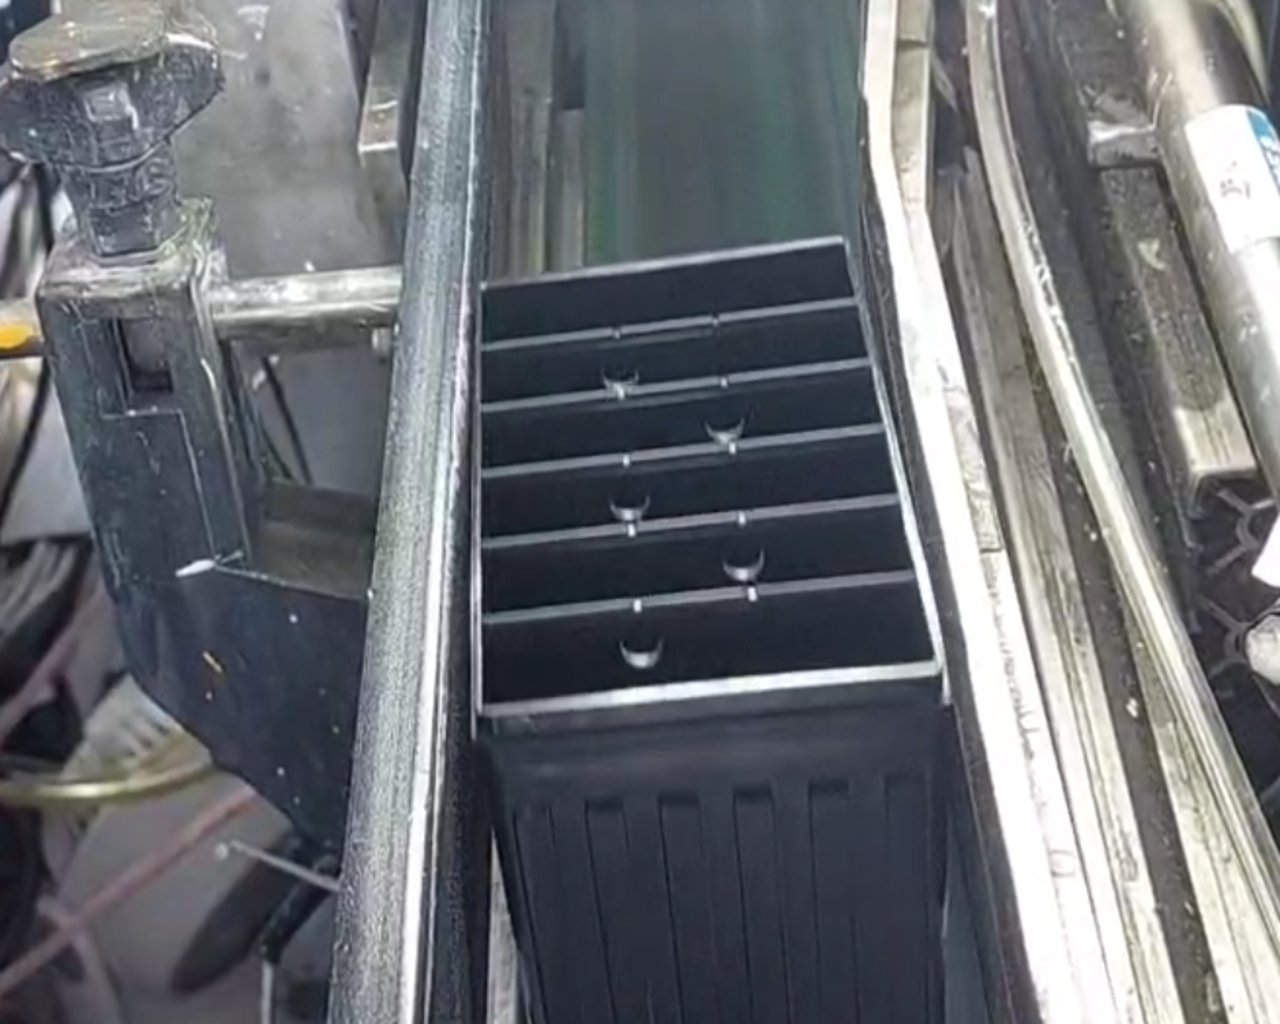box: (453, 224, 967, 757)
round: (603, 618, 677, 676), (688, 393, 757, 449), (707, 531, 775, 584), (598, 470, 664, 525), (588, 349, 649, 394)
